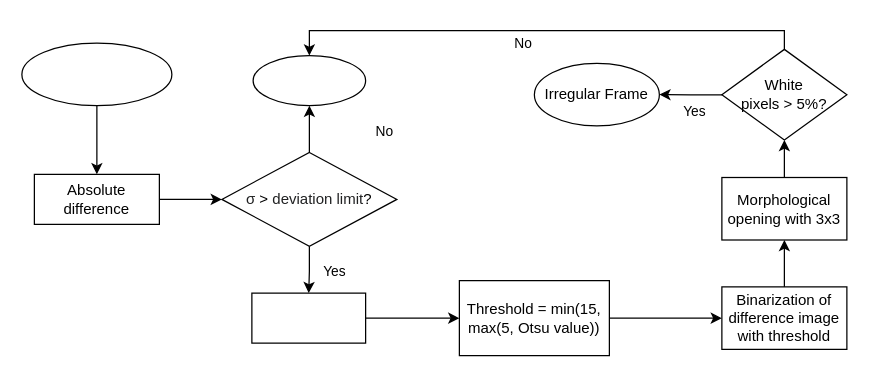
Some shapes in this 869 by 378 pixel diagram are drawn without their labels. The shapes that lost their labels are listed below. From the top down, each one's centre as x and y in pixels, then its label:
At point 96,74: "Frames (n) and (n-1)".
At point 309,80: "Regular Frame".
At point 308,317: "Otsu value".
